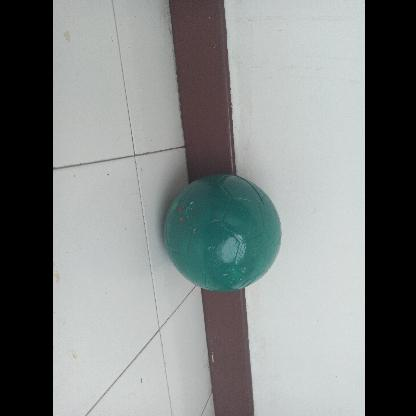green_ball: (166, 175, 282, 291)
